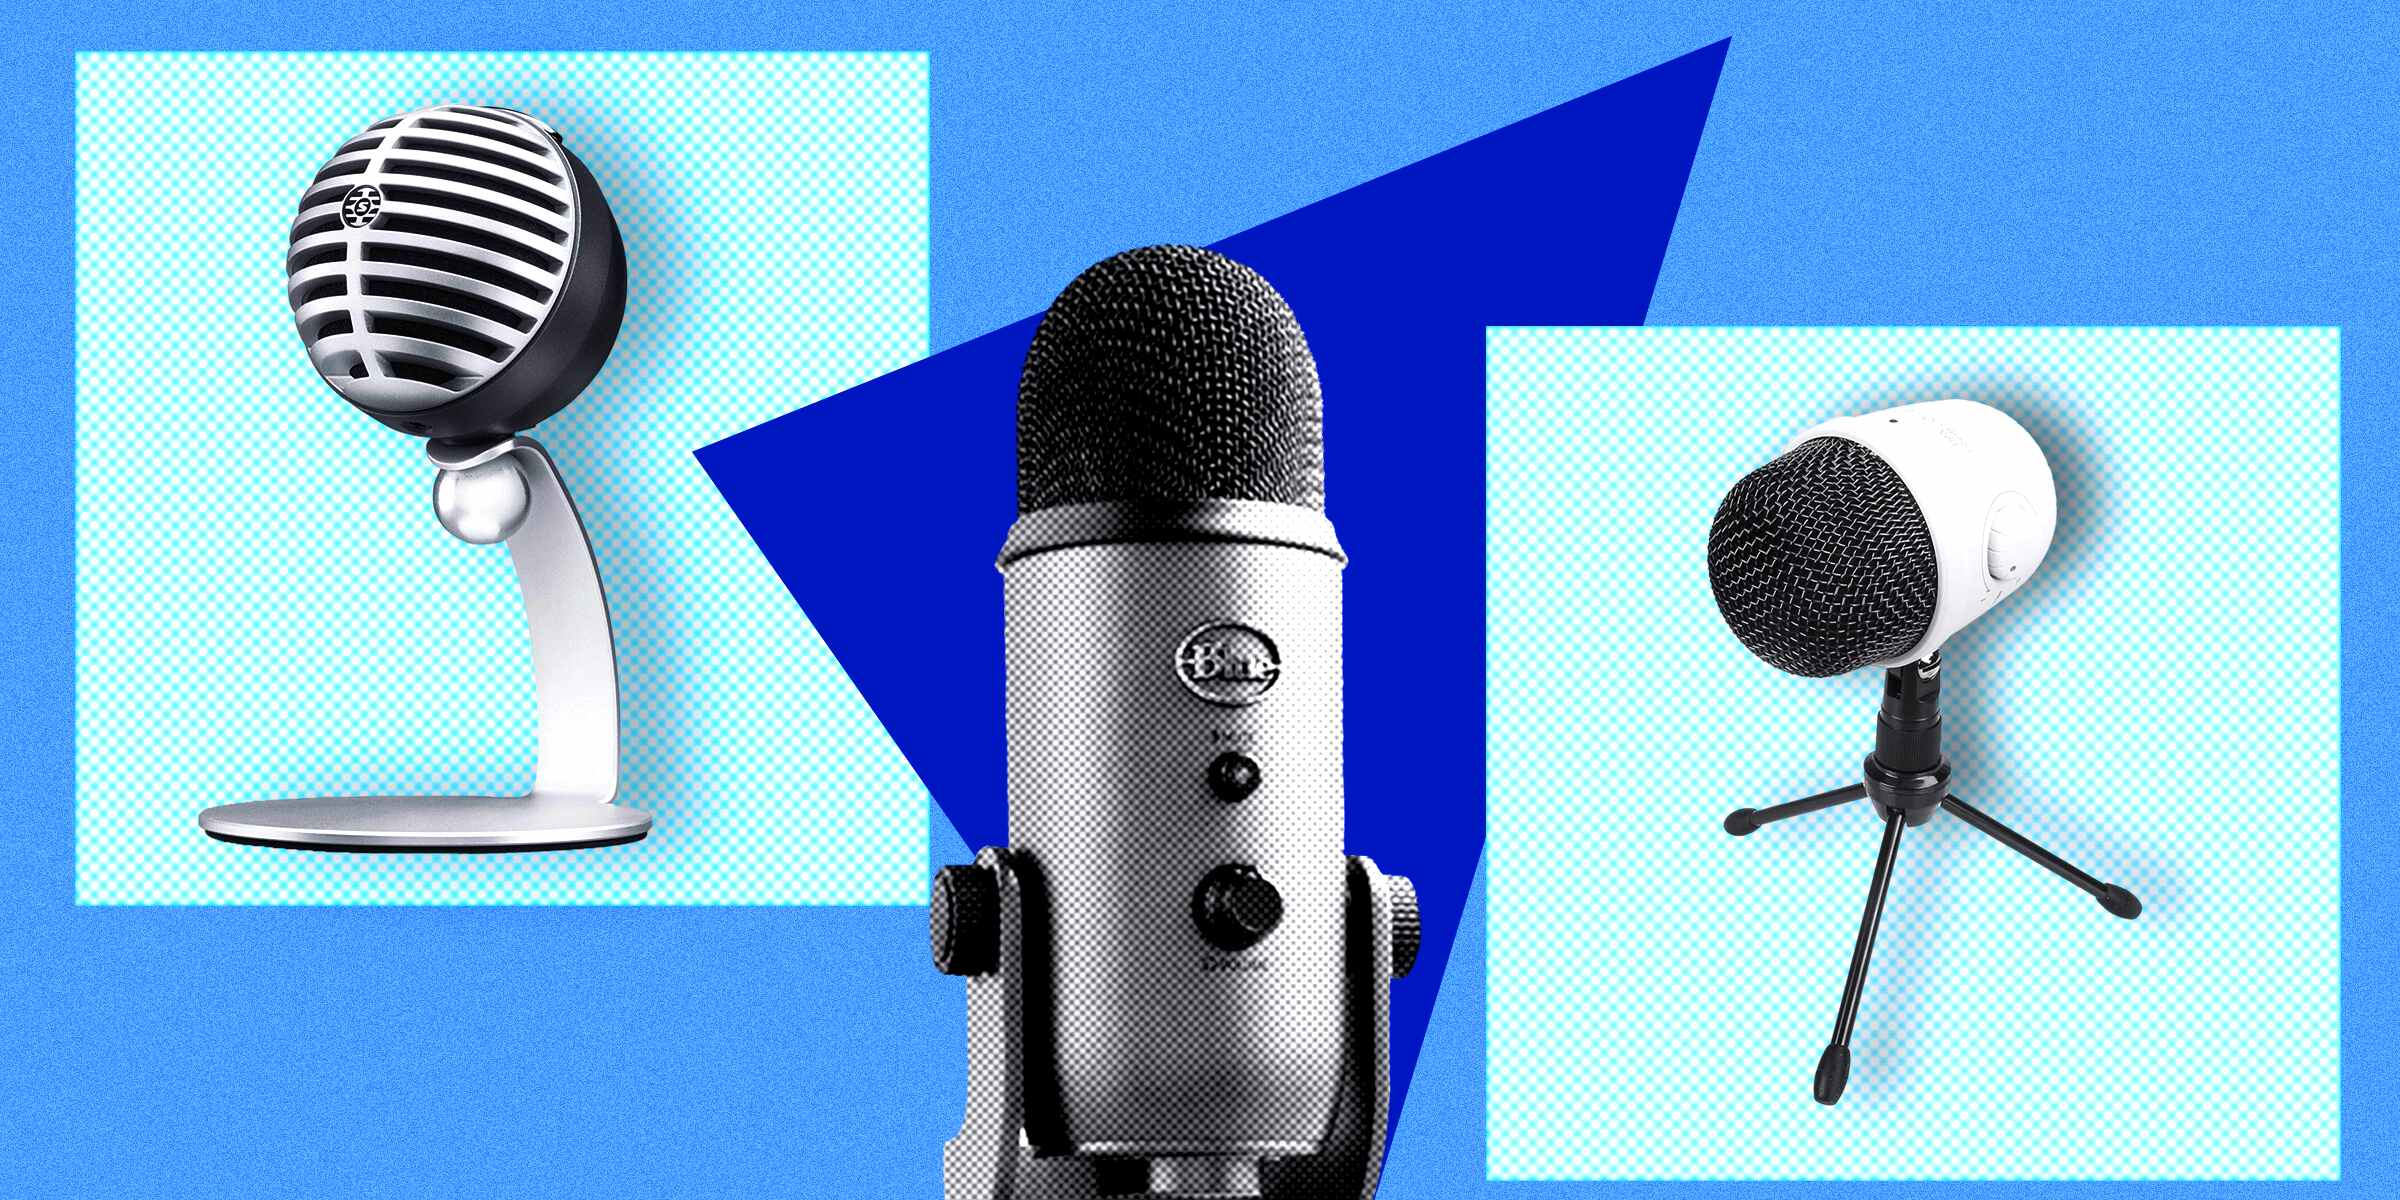microphone: (912, 239, 1430, 1200), (184, 93, 673, 860), (1691, 386, 2154, 1110)
